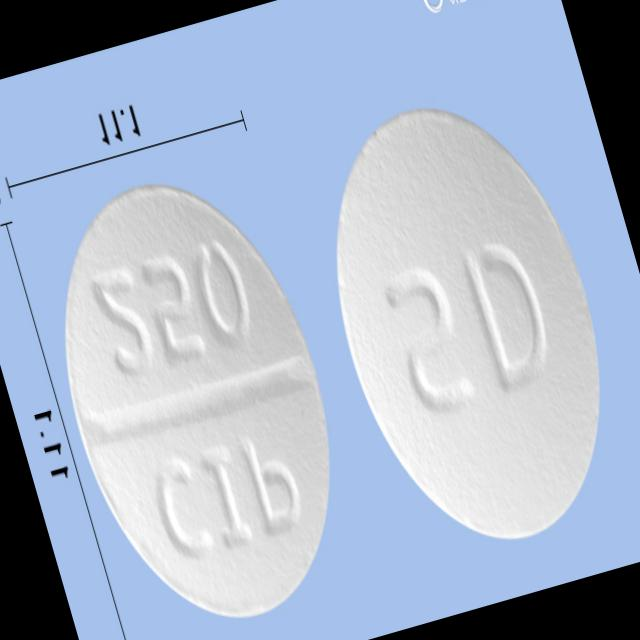Wooridul Ciprofloxacin Tab: (17, 151, 377, 640), (288, 75, 640, 571)
